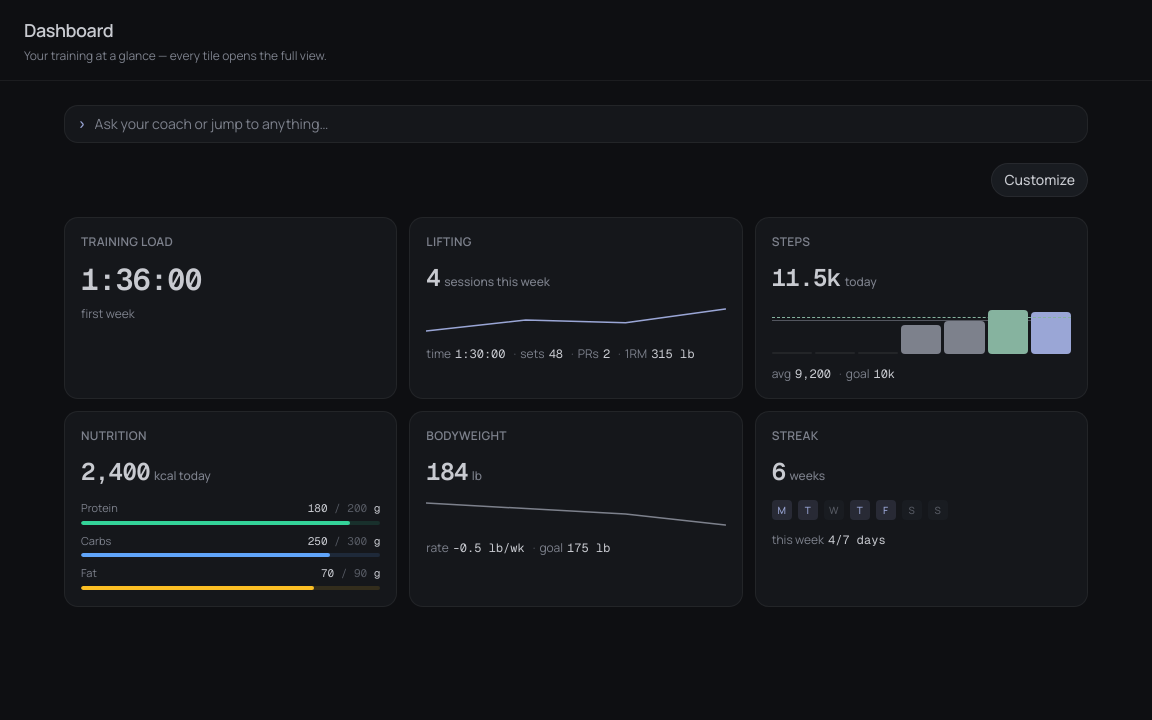
Scenario: DashboardPage — edit mode › Done persists the edited draft, refetches, and exits edit mode
expect the link "Training Load 1:36:00 first week" is shown: met, box [64,217,397,399]
Click the button "Customize" at (1040, 180), box [991,163,1088,197]
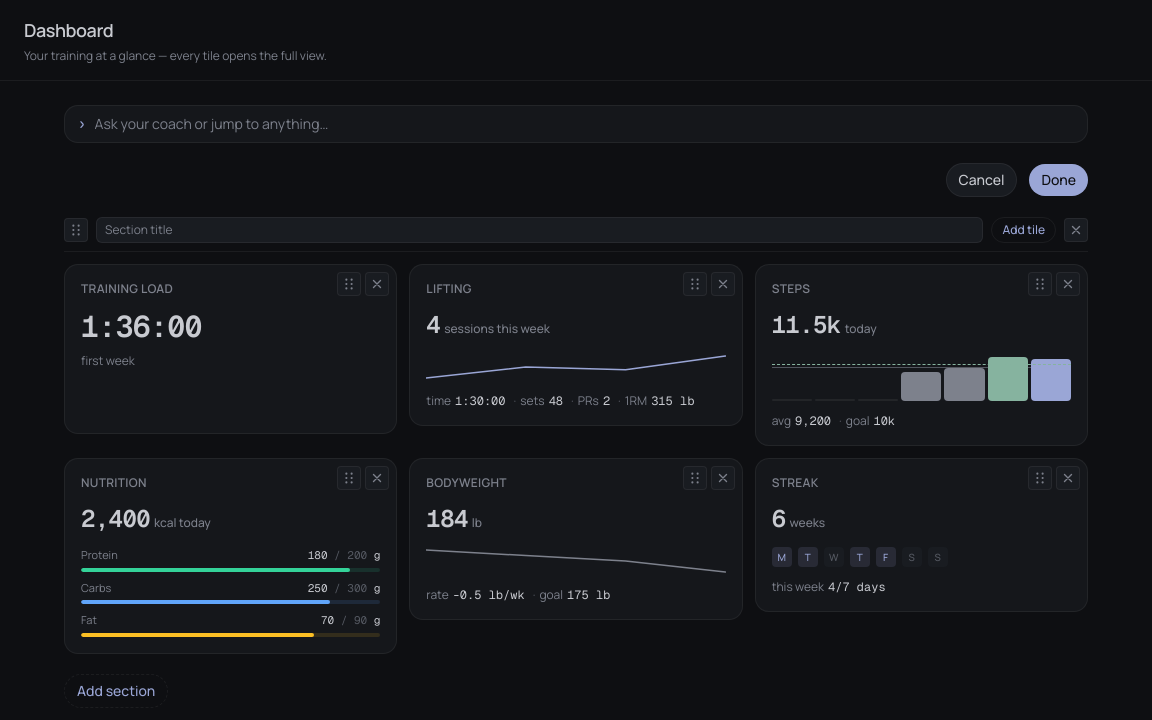
Note: Remove the running tile, then add walking.
Click the button named "Remove Training Load" at (377, 284), box [365,272,389,296]
(page scrolled)
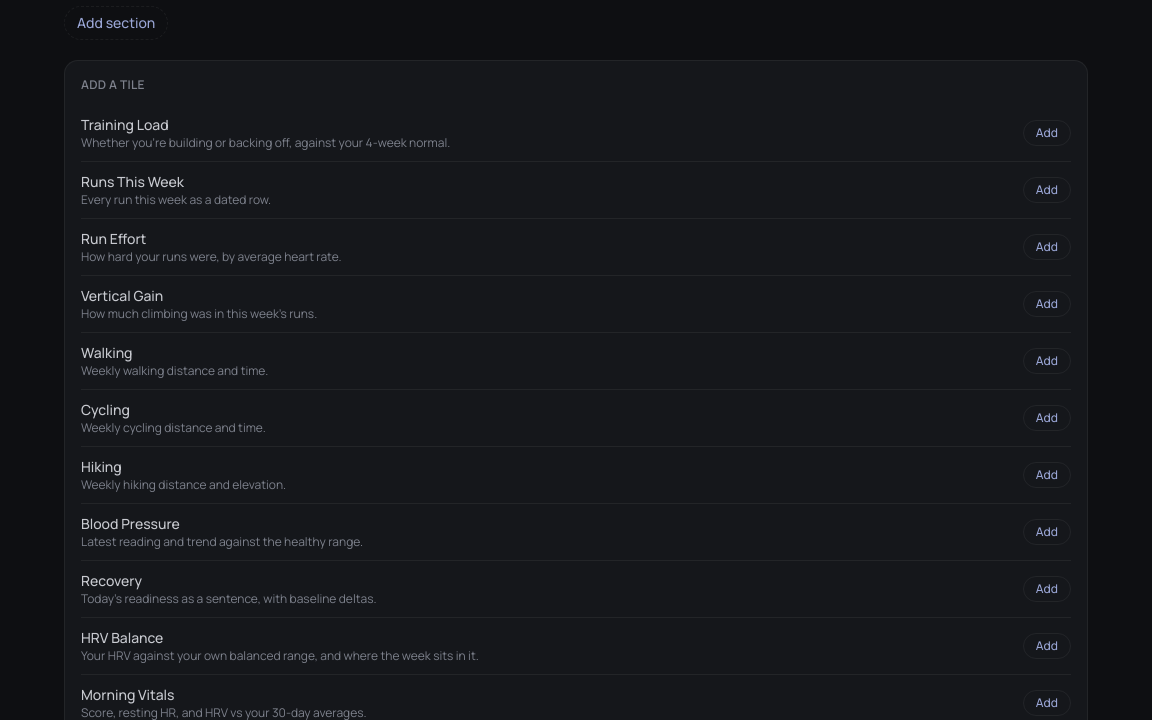
Click the button with aria-label "Add Walking" at (1047, 360), box [1023,348,1071,374]
(page scrolled)
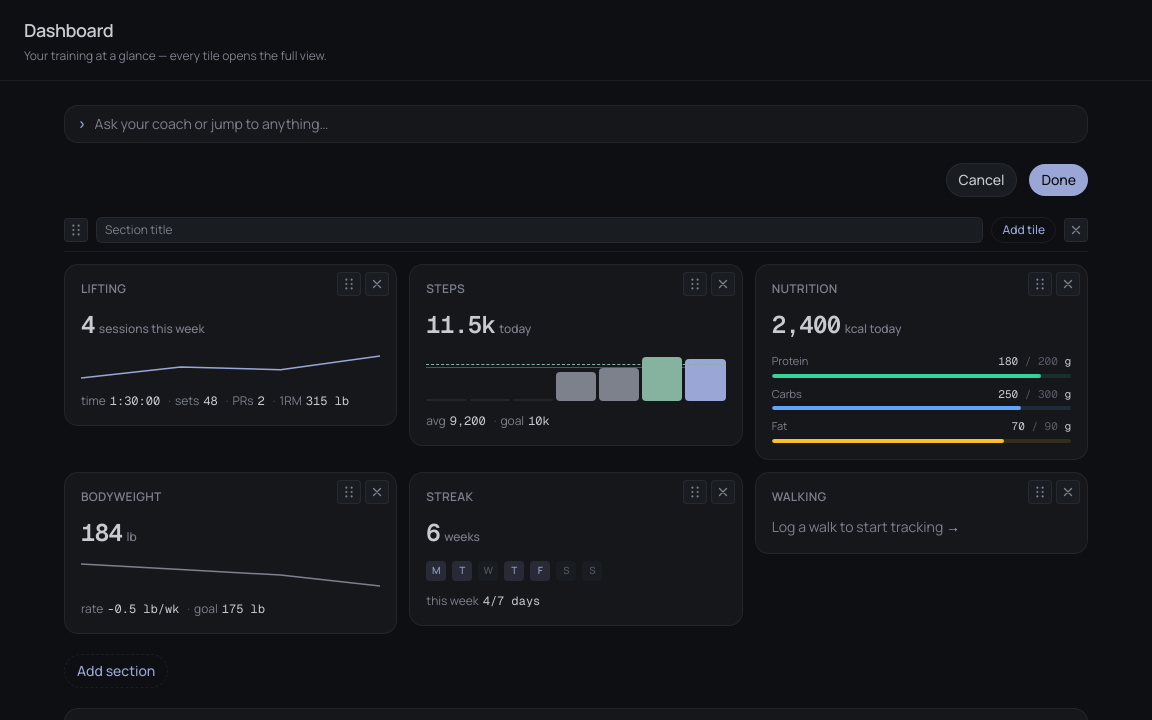
Click the button "Done" at (1059, 180), box [1029,164,1088,196]
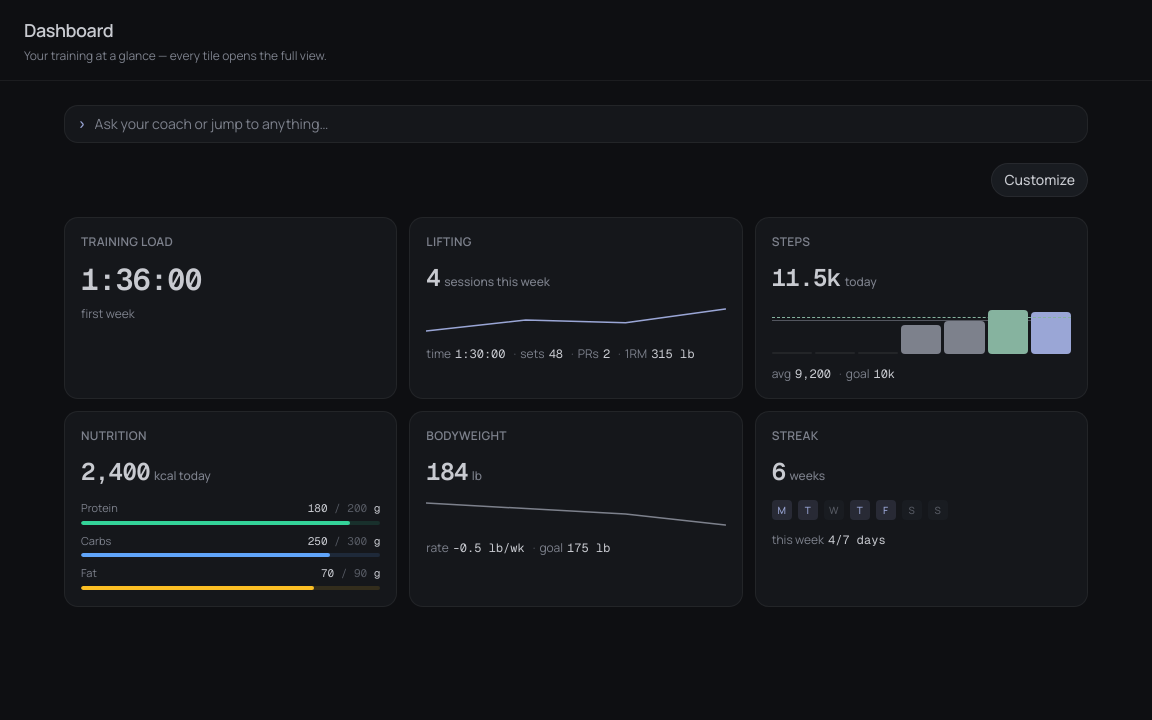
expect the button "Customize" is shown: met, box [991,163,1088,197]
